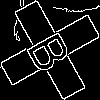B: (25, 25, 81, 76)
